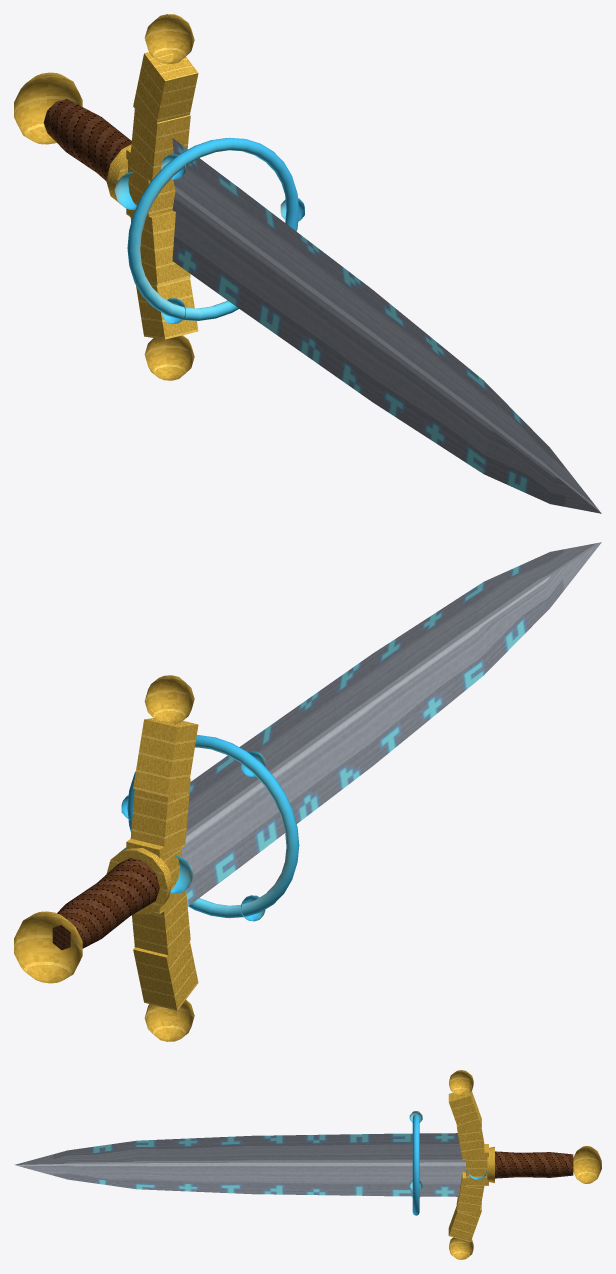
Rendered from rune-blade.glb.
3 renders of one model, top to bottom at view 1: azimuth 30°, elevation 25°; view 2: azimuth 150°, elevation 25°; view 3: azimuth 270°, elevation 25°, orthographic. The views are drawn at different scales.
Parts seen in each view (by area): view 1: Blade, Ring; view 2: Blade, Ring; view 3: Blade, Ring.
Boxes of the visible parts, box(x1,y1,x2,y2) form: Blade: box(14, 14, 601, 513); Ring: box(127, 137, 304, 323); Blade: box(14, 542, 601, 1041); Ring: box(121, 735, 299, 921); Blade: box(15, 1070, 601, 1259); Ring: box(409, 1111, 422, 1215).
Bounding box in the file's own units: 1.37 × 2.7 × 7.67.
Materials: 4 (4 with a texture image).
